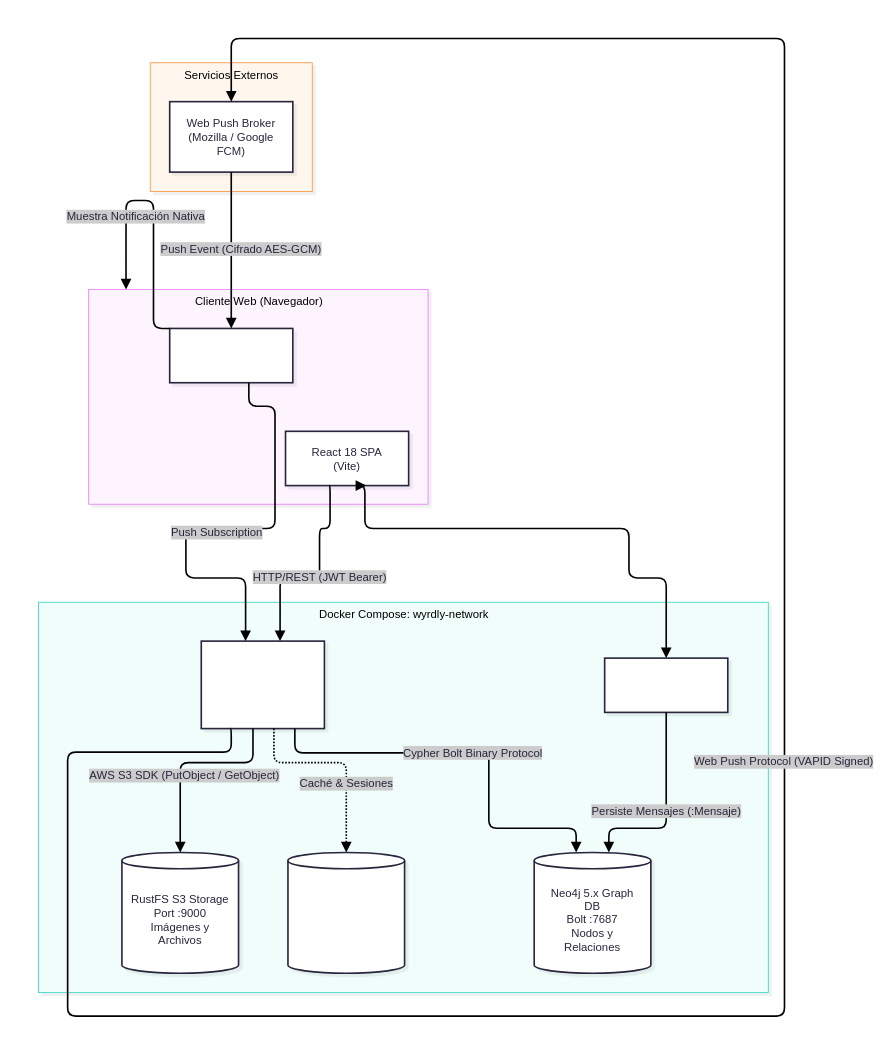
This 887x1038 diagram has some shape labels left out. The centre of each missing label's shape, as x and y in pixels:
Quarkus 3.x (Java 21) RESTEasy Reactive :8080: pixel 264 686
Redis 7 Cache Port :6379 Rate Limit: pixel 347 914
Service Worker (Web Push): pixel 232 356
WebSocket Server /ws/chat/{userId}: pixel 667 686
